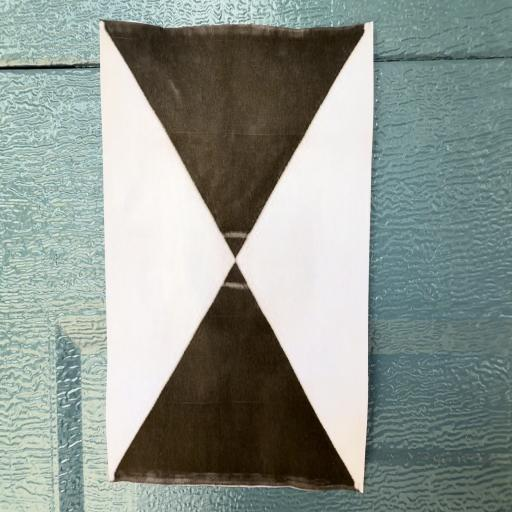target: (100, 20, 364, 494)
